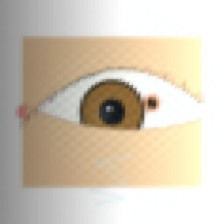foreign_body_visible: (127, 84, 176, 123)
